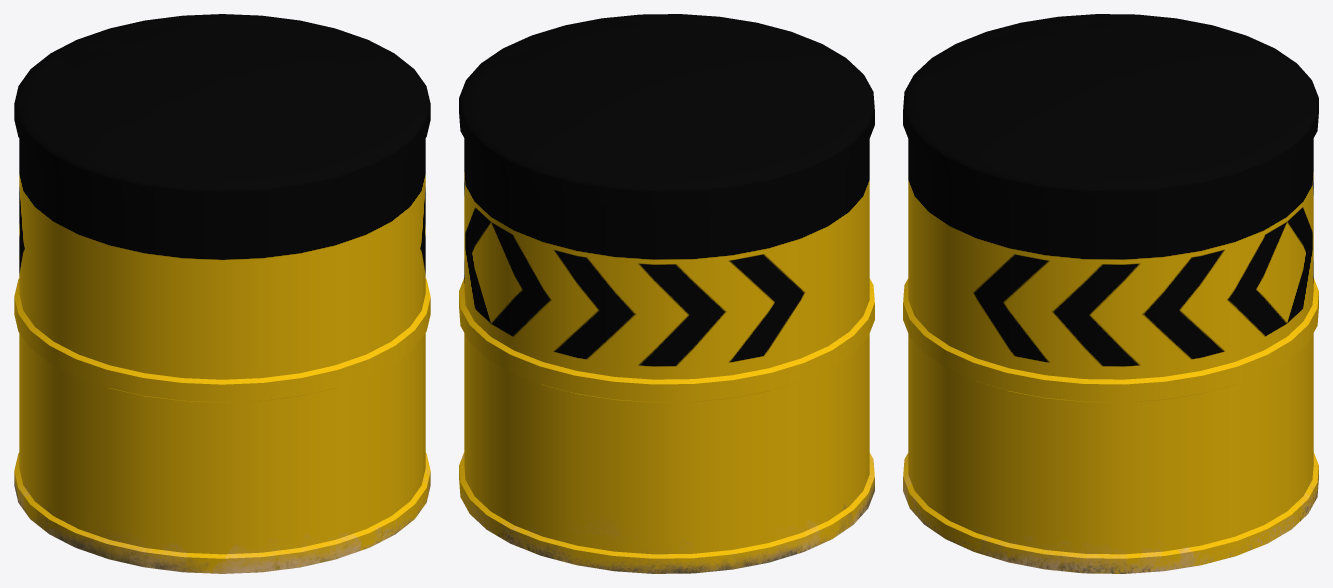
Rendered from sm_stob_005.fbx.
3 renders of one model, left to right at view 1: azimuth 30°, elevation 25°; view 2: azimuth 150°, elevation 25°; view 3: azimuth 270°, elevation 25°, orthographic.
Parts seen in each view (by area): view 1: sm_stob_005; view 2: sm_stob_005; view 3: sm_stob_005.
Boxes of the visible parts, x1,y1,x2,y2 form: sm_stob_005: (14,14,430,573); sm_stob_005: (459,14,874,573); sm_stob_005: (903,14,1318,573).
Size of the model in its own units: 0.4893 by 0.5289 by 0.4893.
Materials: 1 (1 with a texture image).
